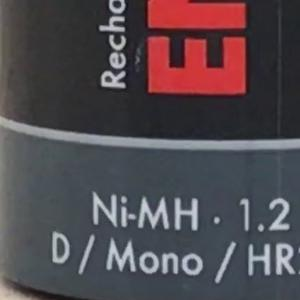keyword: (84, 188, 207, 236)
